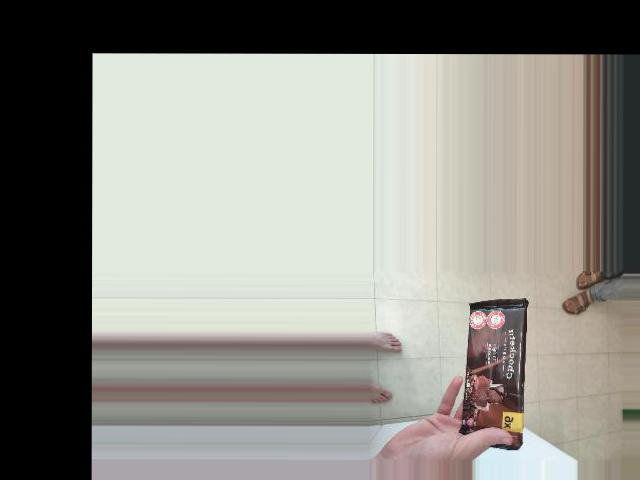chocolate: (441, 285, 596, 372)
